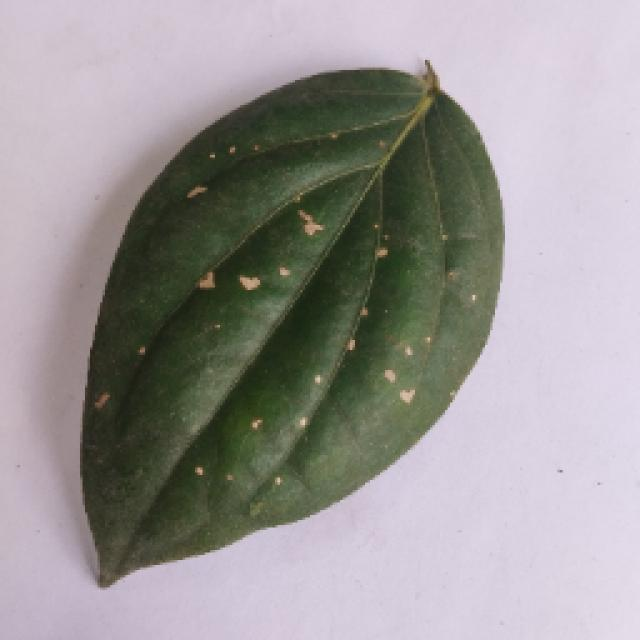pollu-disease: (48, 58, 558, 590)
